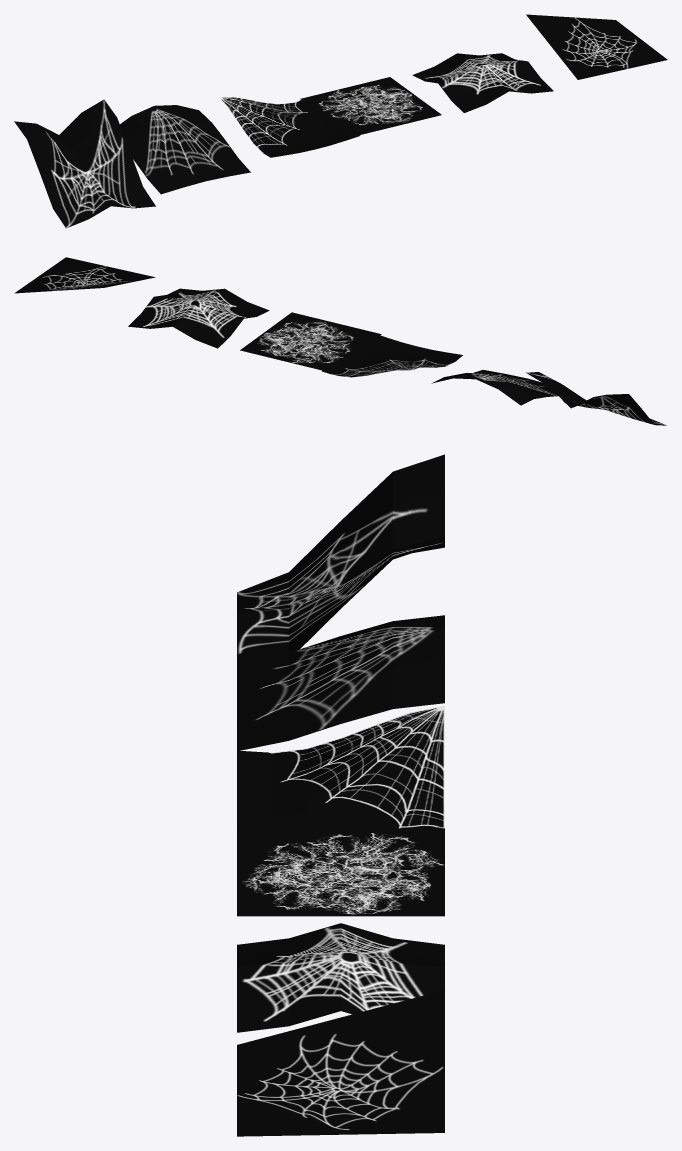
File: Cobweb.fbx
3 views of the same model, one above another, from view 1: azimuth 30°, elevation 25°; view 2: azimuth 150°, elevation 25°; view 3: azimuth 270°, elevation 25° (orthographic). The views are drawn at different scales.
Parts seen in each view (by area): view 1: Web1, Web2, Web6, Web3, Web5, Web4; view 2: Web5, Web4, Web3, Web6, Web1, Web2; view 3: Web6, Web3, Web4, Web2, Web1, Web5.
Boxes of the visible parts, box(x1,y1,x2,y2) form: Web1: box(14, 99, 155, 228); Web2: box(120, 105, 250, 194); Web6: box(526, 14, 667, 79); Web3: box(219, 97, 360, 157); Web5: box(412, 53, 553, 112); Web4: box(300, 77, 441, 136); Web5: box(128, 288, 269, 348); Web4: box(240, 312, 381, 372); Web3: box(321, 335, 462, 377); Web6: box(14, 257, 155, 293); Web1: box(526, 372, 666, 425); Web2: box(431, 370, 557, 405); Web6: box(237, 990, 444, 1136); Web3: box(237, 705, 444, 828); Web4: box(237, 828, 444, 916); Web2: box(237, 615, 444, 750); Web1: box(237, 454, 444, 663); Web5: box(237, 923, 444, 1032).
Size of the model in its own units: 1335 by 146 by 200.
